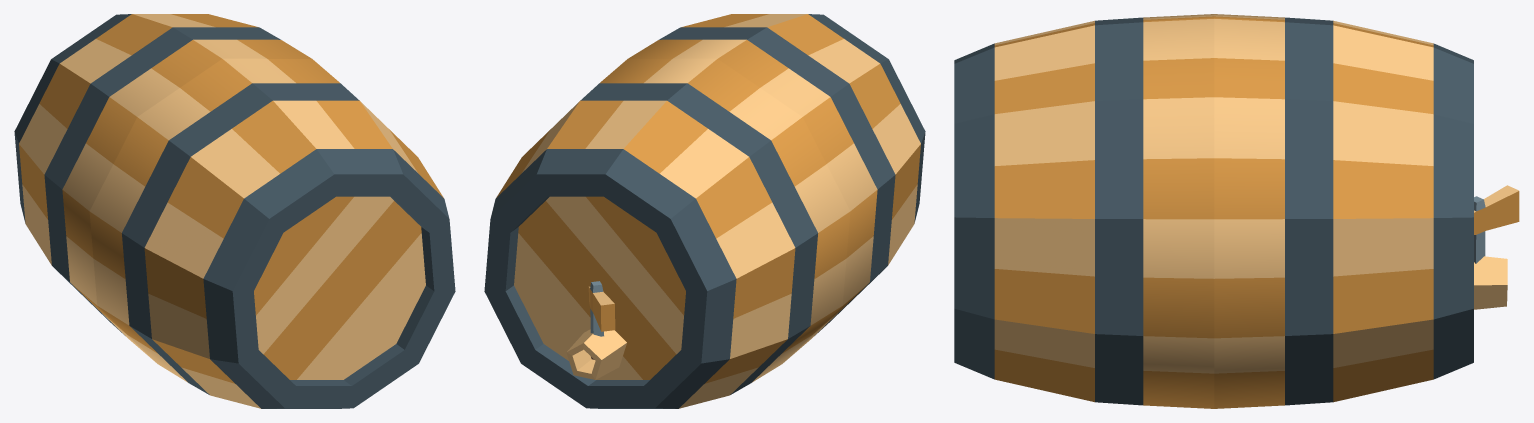
The model's file is Keg.glb.
3 renders of one model, left to right at view 1: azimuth 30°, elevation 25°; view 2: azimuth 150°, elevation 25°; view 3: azimuth 270°, elevation 25°, orthographic. The views are drawn at different scales.
Parts seen in each view (by area): view 1: Big keg; view 2: Big keg; view 3: Big keg.
Boxes of the visible parts, x1,y1,x2,y2 form: Big keg: (14, 14, 455, 408); Big keg: (484, 14, 925, 408); Big keg: (954, 14, 1519, 408).
Bounding box in the file's own units: 0.7602 × 0.778 × 1.07.
